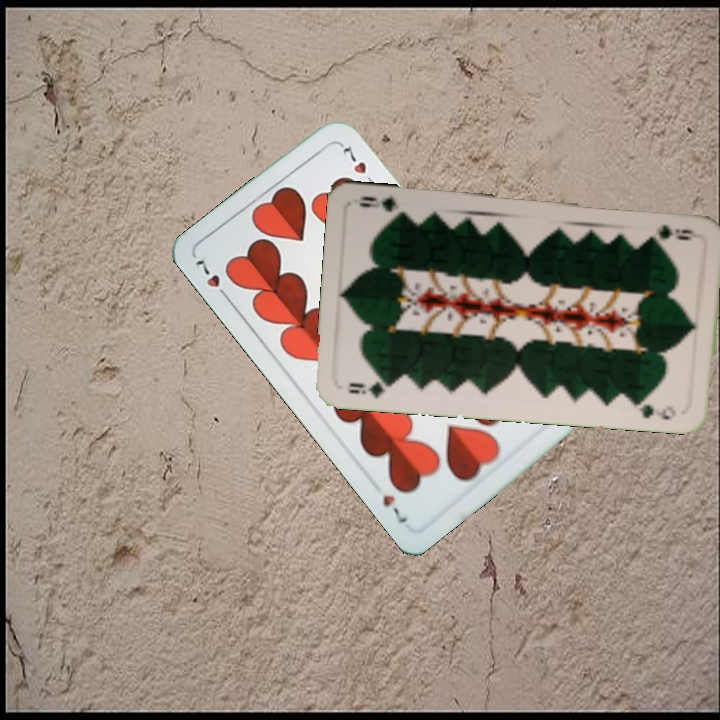G9: (344, 377, 398, 401), (654, 221, 696, 240)
H7: (191, 255, 233, 304)
